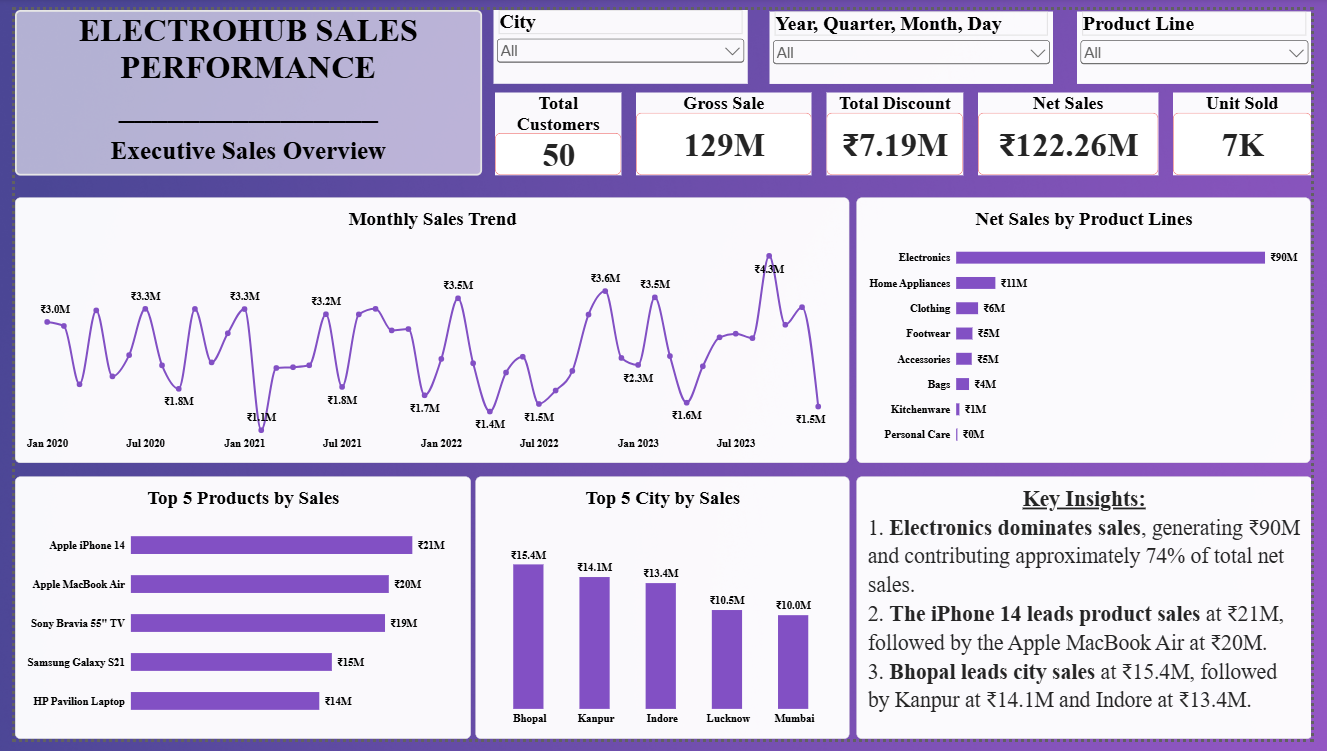

The dashboard page shown, as its layout file describes it:
{"tool":"powerbi","page":{"name":"Overview","canvas":[1920,1080],"ordinal":0},"visuals":[{"type":"cardVisual","title":"Gross Sale","fields":{"Data":["Measure Table.Gross Sale"]},"box":[919.4,122.5,260,122.5],"z":0},{"type":"cardVisual","title":"Net Sales","fields":{"Data":["Sum(FactSales.Net Sales)"]},"box":[1425.6,122.5,267.5,122.5],"z":1000},{"type":"cardVisual","title":"Unit Sold","fields":{"Data":["Sum(FactSales.Units Sold)"]},"box":[1715,122.5,205,122.5],"z":2000},{"type":"cardVisual","title":"Total Customers","fields":{"Data":["CountNonNull(Dim Customers.CustomerID)"]},"box":[710,122.5,187.5,122.5],"z":3000},{"type":"cardVisual","title":"Total Discount","fields":{"Data":["Measure Table.Total Discount"]},"box":[1201.2,122.5,202.5,122.5],"z":4000},{"type":"lineChart","title":"Monthly Sales Trend","fields":{"Category":["FactSales.Date (dd/mm/yyyy).Variation.Date Hierarchy.Year","FactSales.Date (dd/mm/yyyy).Variation.Date Hierarchy.Quarter","FactSales.Date (dd/mm/yyyy).Variation.Date Hierarchy.Month","FactSales.Date (dd/mm/yyyy).Variation.Date Hierarchy.Day"],"Y":["Sum(FactSales.Net Sales)"]},"box":[0,276.9,1236.3,393.5],"z":5000},{"type":"barChart","title":"Net Sales by Product Lines","fields":{"Category":["Dim Product.Product Line"],"Y":["Sum(FactSales.Net Sales)"]},"box":[1246,276.9,672.8,393.5],"z":6000},{"type":"clusteredBarChart","title":"Top 5 Products by Sales","fields":{"Category":["Dim Product.Product Name"],"Y":["Sum(FactSales.Net Sales)"]},"box":[0,692.2,675.2,388.6],"z":7000},{"type":"columnChart","title":"Top 5 City by Sales","fields":{"Category":["Dim Customers.City"],"Y":["Sum(FactSales.Net Sales)"]},"box":[682.5,692.2,553.8,388.6],"z":8000},{"type":"slicer","title":"City","fields":{"Values":["Dim Customers.City"]},"box":[709.2,0,376.5,109.3],"z":9000},{"type":"slicer","title":"City","fields":{"Values":["FactSales.Date (dd/mm/yyyy).Variation.Date Hierarchy.Year","FactSales.Date (dd/mm/yyyy).Variation.Date Hierarchy.Quarter","FactSales.Date (dd/mm/yyyy).Variation.Date Hierarchy.Month","FactSales.Date (dd/mm/yyyy).Variation.Date Hierarchy.Day"]},"box":[1118.8,2.5,420,107.5],"z":10000},{"type":"slicer","title":"City","fields":{"Values":["Dim Product.Product Line"]},"box":[1572.5,2.5,347.5,107.5],"z":11000},{"type":"textbox","box":[1246,692.2,675.2,388.6],"z":12000},{"type":"textbox","box":[0,0,692.2,245.3],"z":13000}]}

Visuals, with their boxes in screenshot pixels (x1, y1, x2, y2), scaled from the page's 1920x1080 canvas onto the 1327x751 screenshot:
"Gross Sale" cardVisual: x1=635 y1=85 x2=815 y2=170
"Net Sales" cardVisual: x1=985 y1=85 x2=1170 y2=170
"Unit Sold" cardVisual: x1=1185 y1=85 x2=1326 y2=170
"Total Customers" cardVisual: x1=491 y1=85 x2=620 y2=170
"Total Discount" cardVisual: x1=830 y1=85 x2=970 y2=170
"Monthly Sales Trend" lineChart: x1=0 y1=193 x2=854 y2=466
"Net Sales by Product Lines" barChart: x1=861 y1=193 x2=1326 y2=466
"Top 5 Products by Sales" clusteredBarChart: x1=0 y1=481 x2=467 y2=750
"Top 5 City by Sales" columnChart: x1=472 y1=481 x2=854 y2=750
"City" slicer: x1=490 y1=0 x2=750 y2=76
"City" slicer: x1=773 y1=2 x2=1064 y2=76
"City" slicer: x1=1087 y1=2 x2=1326 y2=76
textbox: x1=861 y1=481 x2=1326 y2=750
textbox: x1=0 y1=0 x2=478 y2=171
